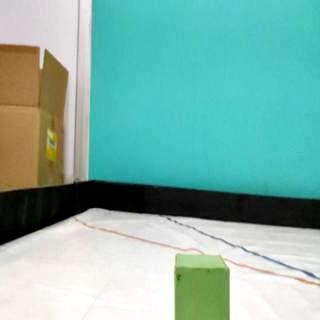greenbox: (173, 253, 231, 320)
